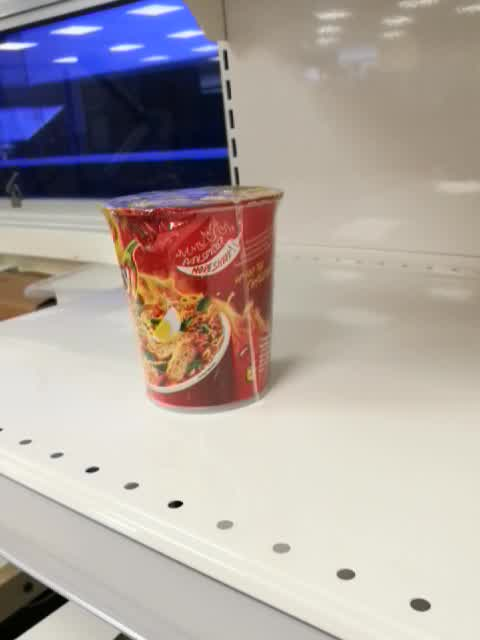maggi: (97, 185, 286, 415)
